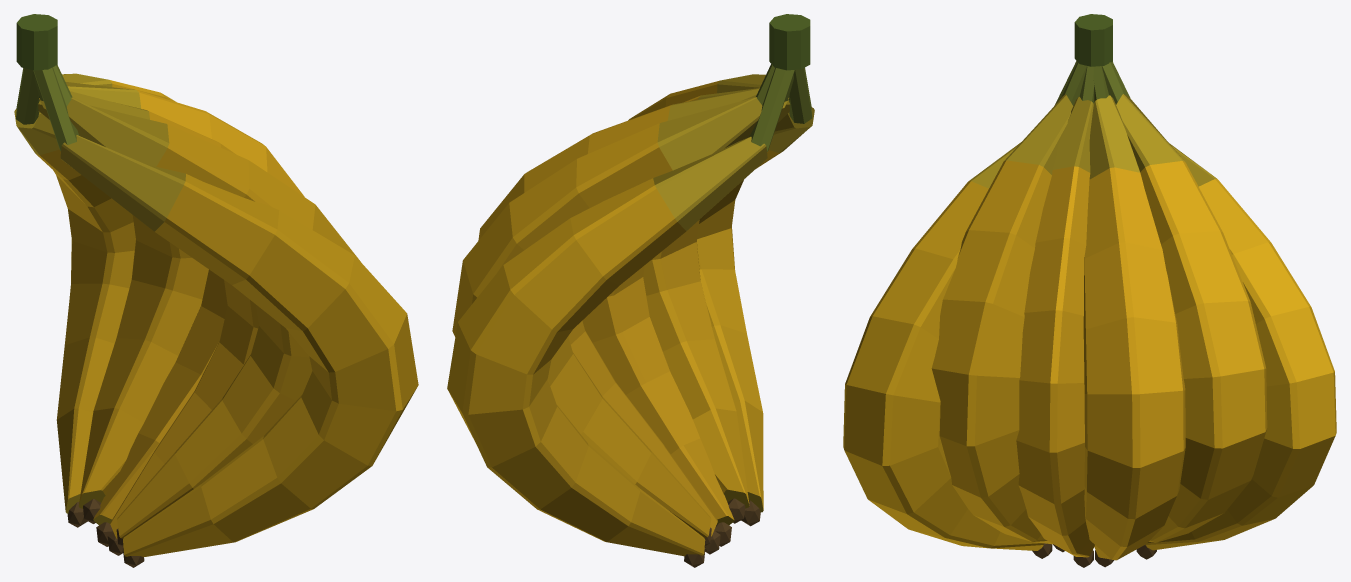
Rendered from bananaD.glb.
3 views of the same model, side by side, from view 1: azimuth 30°, elevation 25°; view 2: azimuth 150°, elevation 25°; view 3: azimuth 270°, elevation 25° (orthographic). The views are drawn at different scales.
Visible parts, largest first — view 1: BananaMesh.004; view 2: BananaMesh.004; view 3: BananaMesh.004.
Part boxes in pixels (x1,y1,x2,y2): BananaMesh.004: (14, 14, 418, 567); BananaMesh.004: (447, 14, 814, 567); BananaMesh.004: (843, 14, 1336, 567).
Size of the model in its own units: 0.3961 by 0.6593 by 0.5766.
